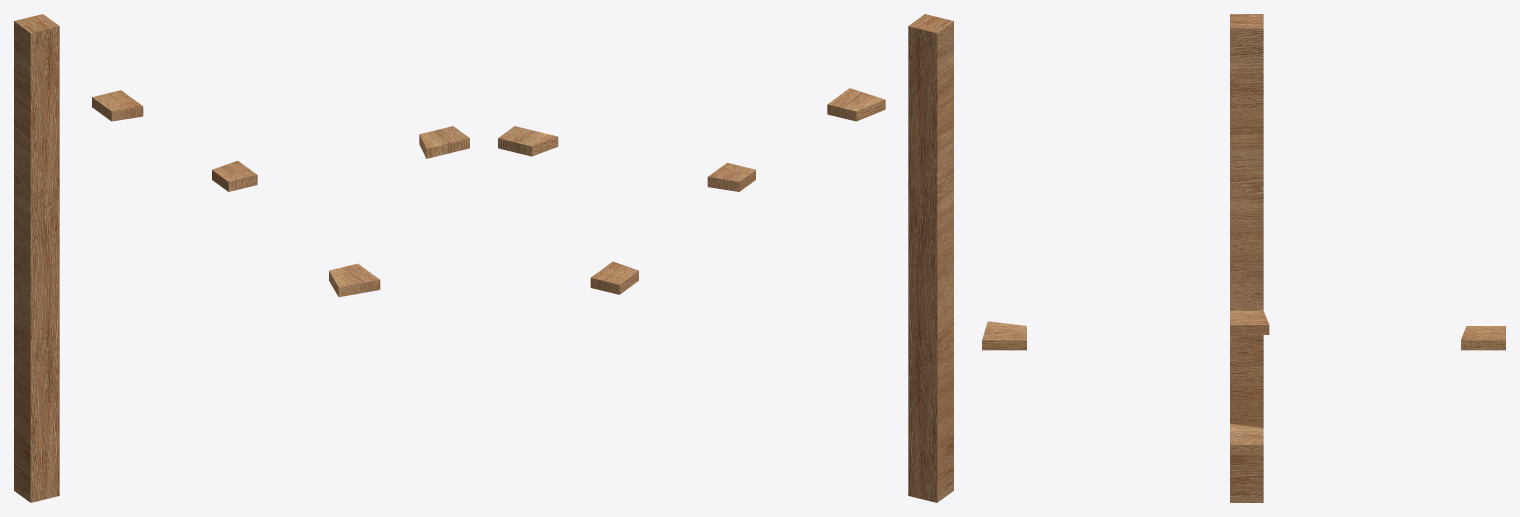
File: 19416_deepcad-end2end.glb
3 views of the same model, side by side, from view 1: azimuth 30°, elevation 25°; view 2: azimuth 150°, elevation 25°; view 3: azimuth 270°, elevation 25° (orthographic).
Visible parts, largest first — view 1: test_cmd_19416_pred; view 2: test_cmd_19416_pred; view 3: test_cmd_19416_pred.
Boxes of the visible parts, box(x1,y1,x2,y2) form: test_cmd_19416_pred: box(14, 14, 469, 502); test_cmd_19416_pred: box(498, 14, 953, 502); test_cmd_19416_pred: box(982, 14, 1505, 502).
Size of the model in its own units: 0.9785 by 1 by 1.
Materials: 1 (1 with a texture image).
